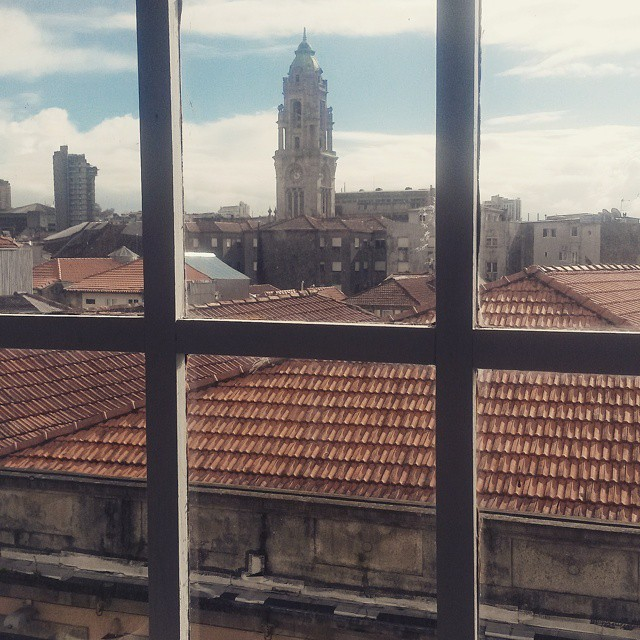camara: (271, 26, 340, 223)
